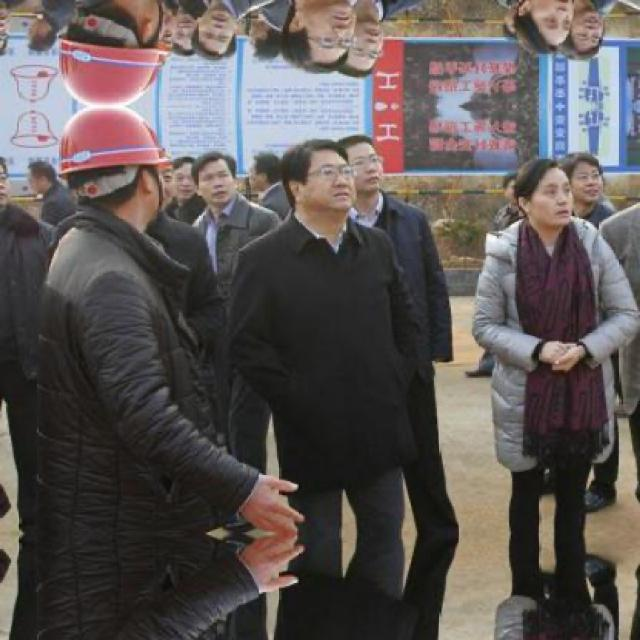con casco: (31, 106, 178, 200)
sin casco: (506, 160, 578, 208), (284, 142, 364, 178), (183, 147, 245, 188), (336, 130, 401, 163)
